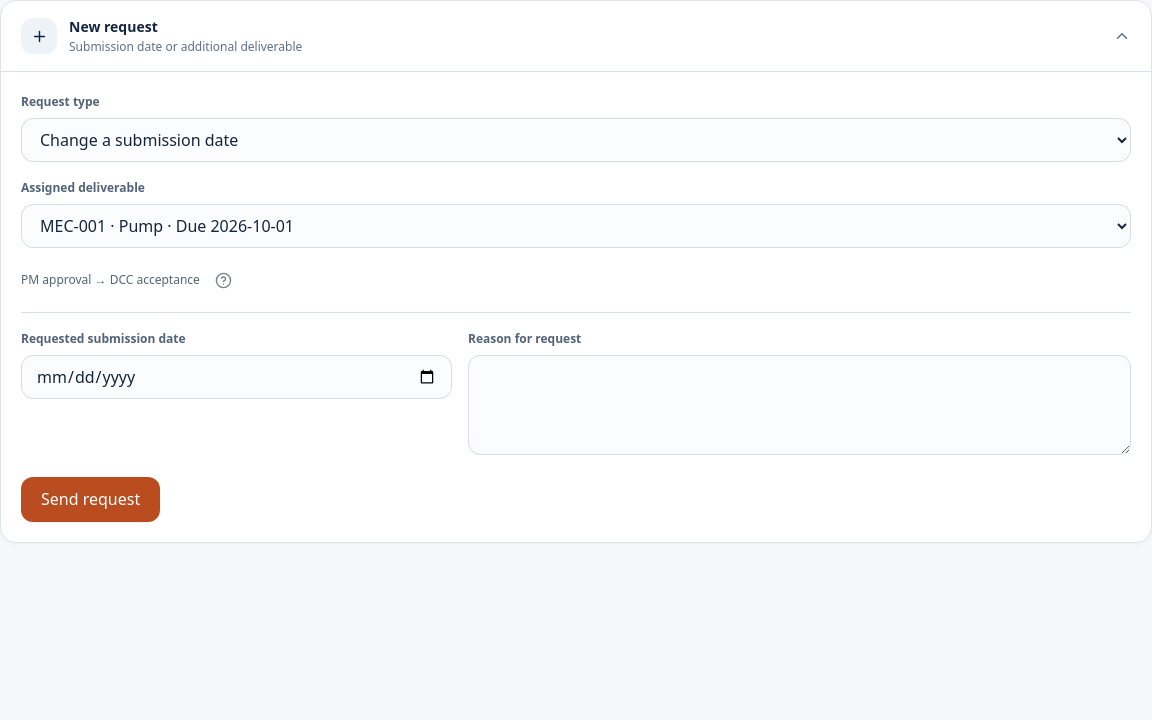
deliverable request forms › shows the current assigned deliverable and keeps new dates behind approvals
This screenshot has width=1152, height=720.
Check: the dropdown labelled "Assigned deliverable" shows "MEC-001 · Pump · Due 2026-10-01", box [21, 204, 1131, 248]
Check: the text "existing deadline stays in force" is not shown
Hover over the button named "When the deadline changes": (224, 280) [208, 264, 240, 296]
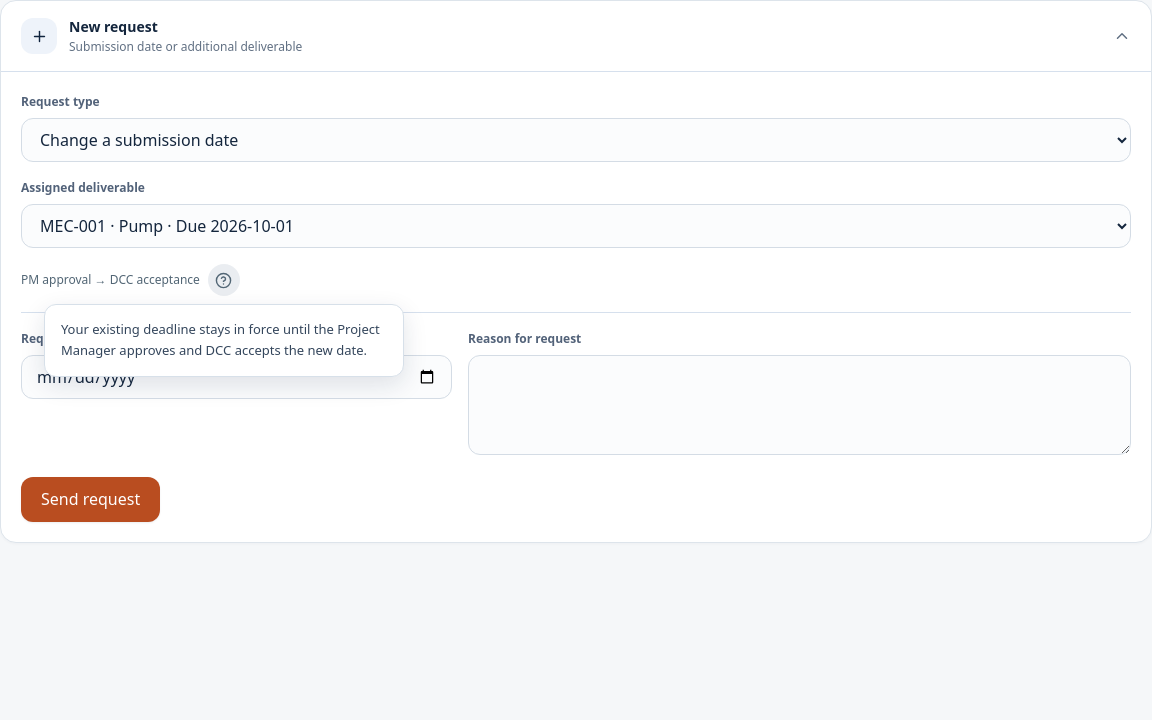
Check: the tooltip shows "existing deadline stays in force", box [61, 320, 380, 359]
